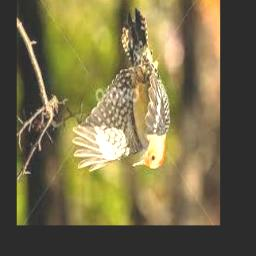Woodpecker: (72, 9, 171, 172)
